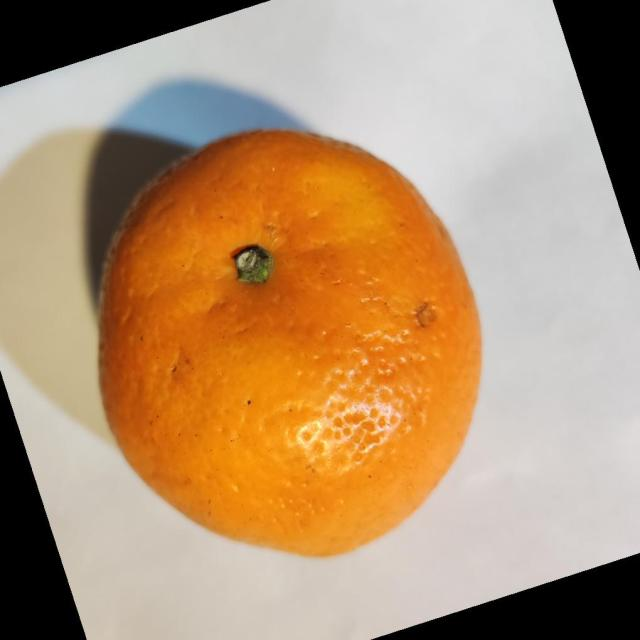fresh orange: (96, 127, 483, 558)
